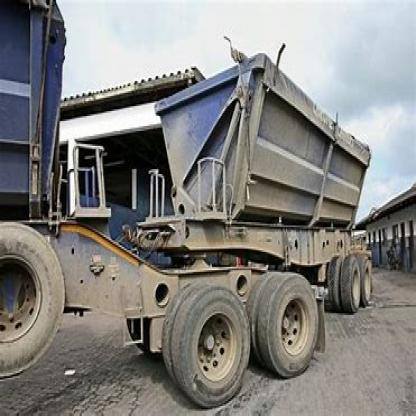dump_truck: (7, 17, 410, 391)
